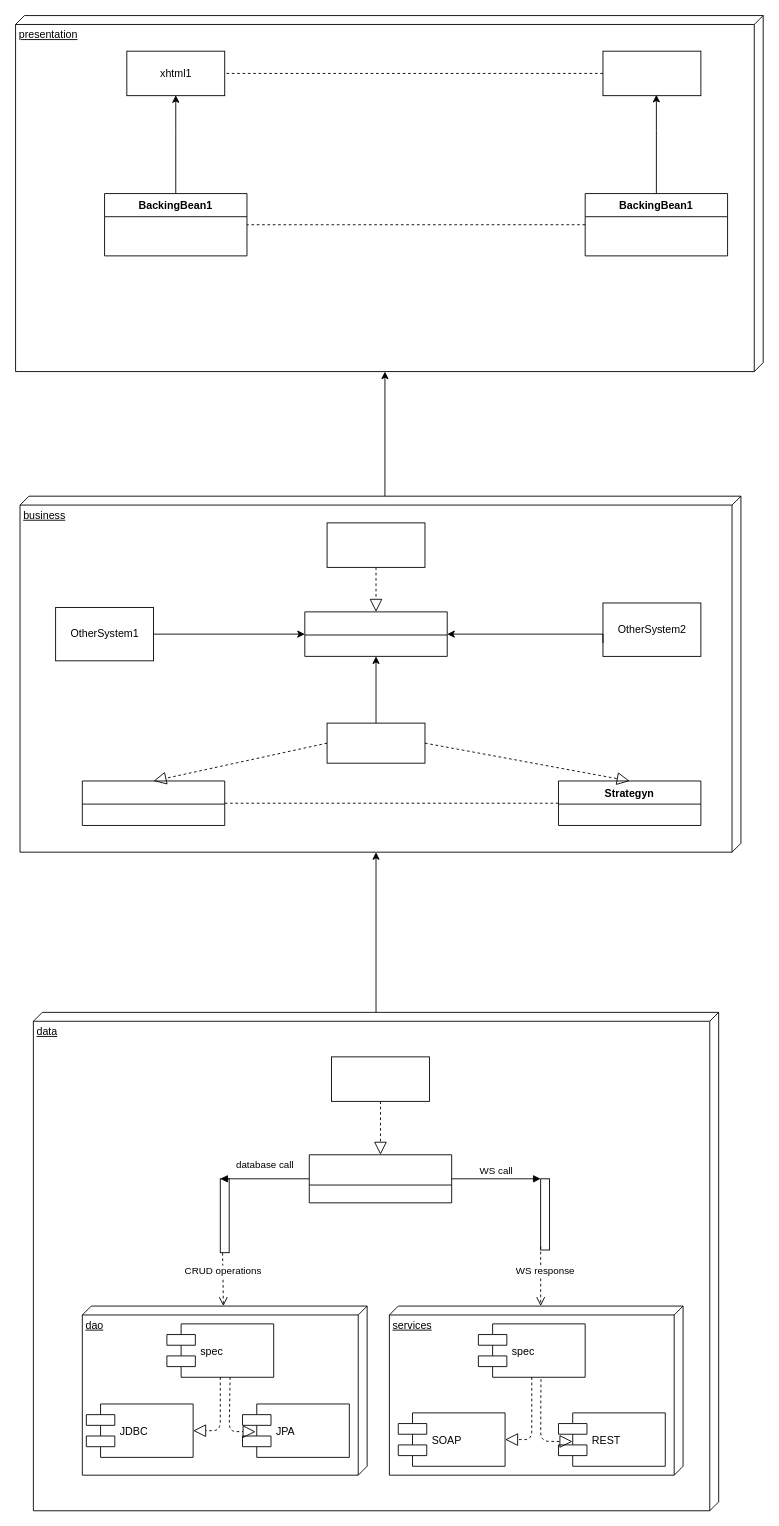
Some shapes in this 779 by 1526 pixel diagram are drawn without their labels. Here are the shapes that lost their labels. From the top down, the centre of each, then its label:
(x=651, y=73): xhtml n1
(x=375, y=544): «interface» BusinessFacade
(x=375, y=633): BusinessFacadeImpl
(x=375, y=742): «interface» MDSVPStrategy
(x=153, y=802): Strategy1
(x=380, y=1078): «interface» DataAccessFacade
(x=380, y=1178): DataAccessFacadeImpl
